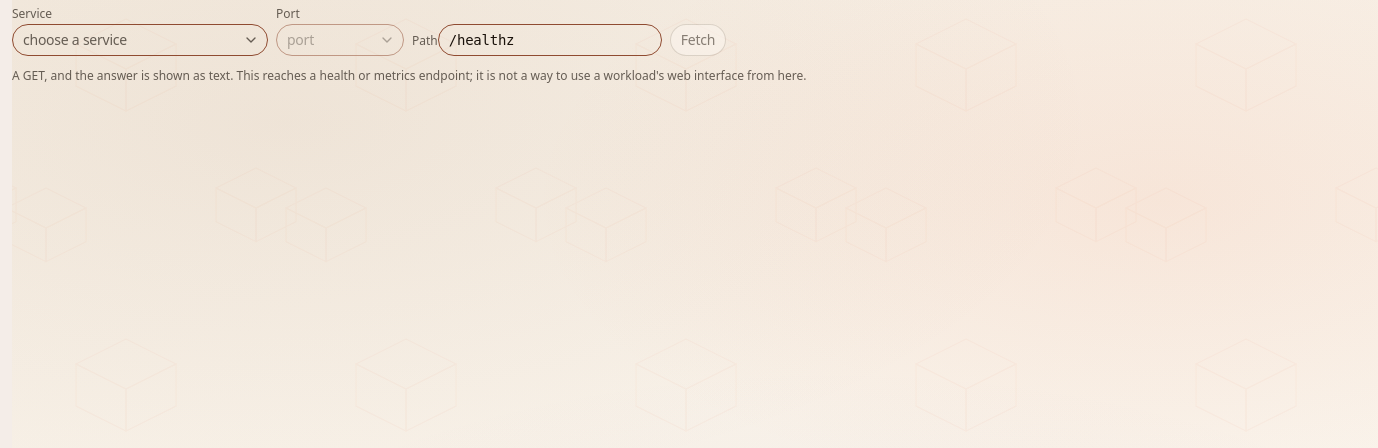
Test: reaching a service › does not carry a port over to a service that may not have it
This screenshot has width=1378, height=448.
Click the dropdown labelled "service" at (140, 40), box left=12, top=24, right=268, bottom=56
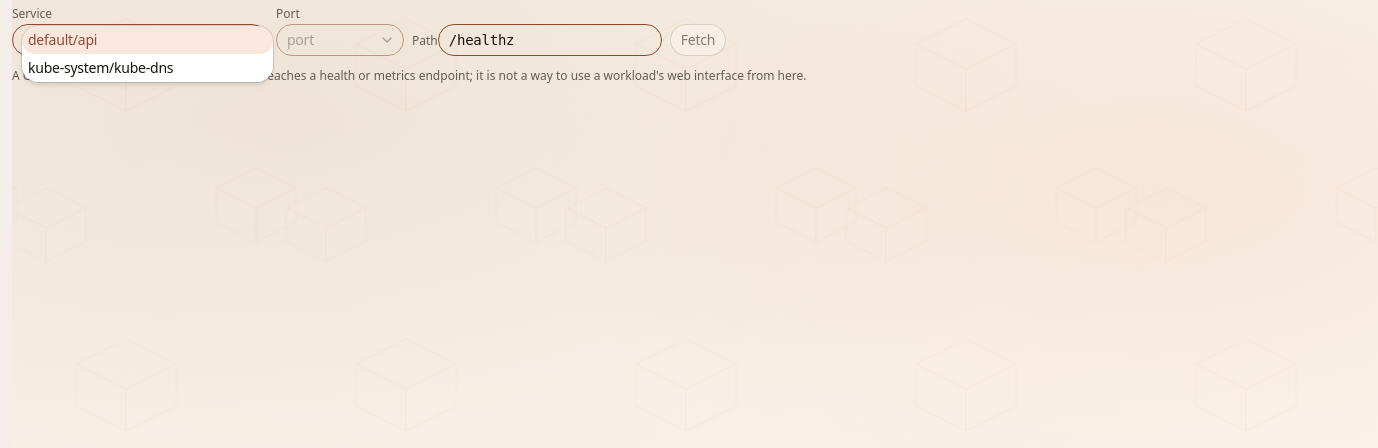
Click the option "default/api" at (148, 40), box left=22, top=26, right=273, bottom=54
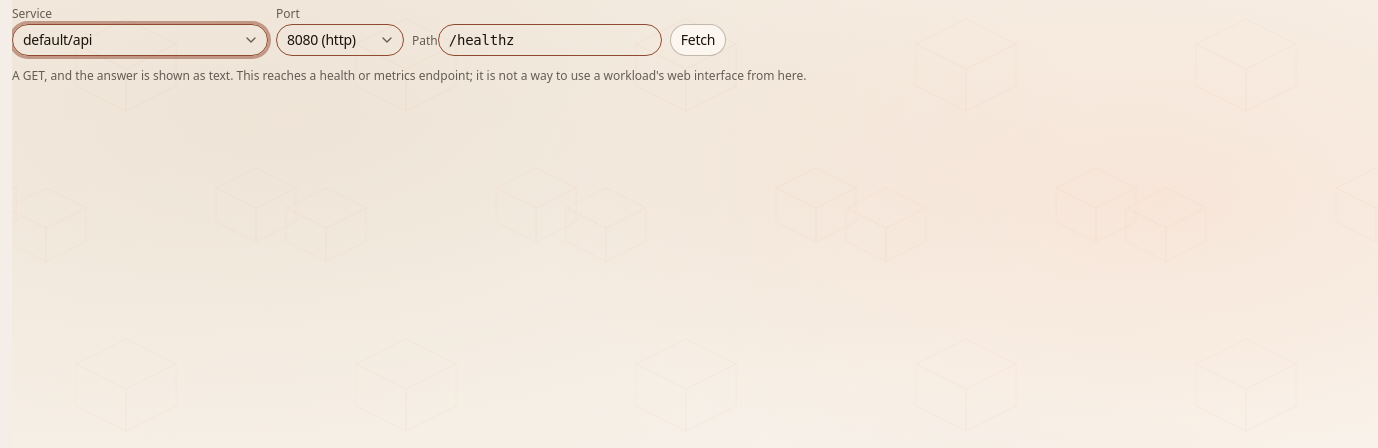
Click the dropdown named "Service" at (140, 40), box left=12, top=24, right=268, bottom=56
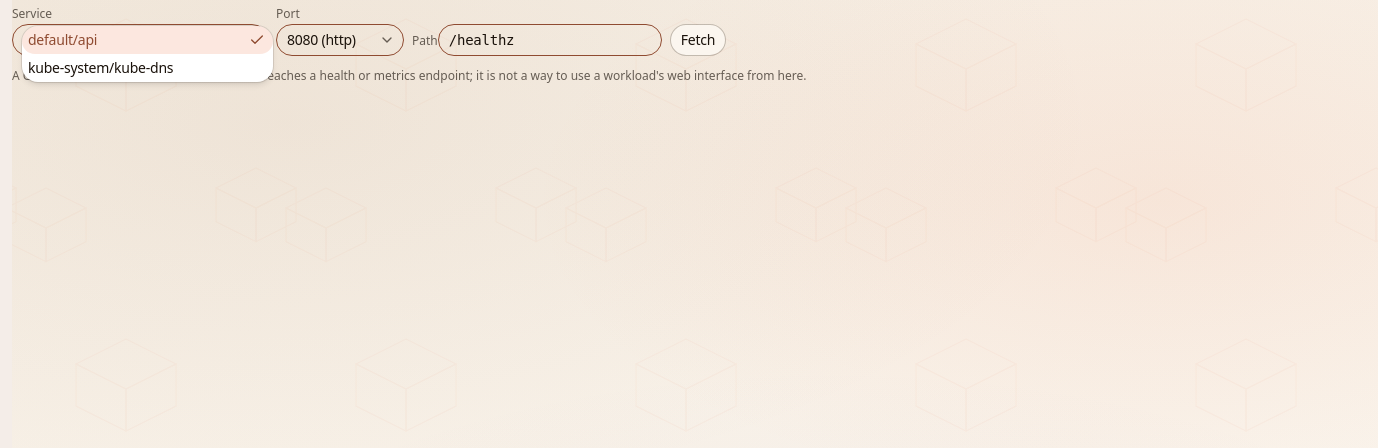
Click the option "kube-system/kube-dns" at (101, 68), box left=28, top=58, right=173, bottom=77
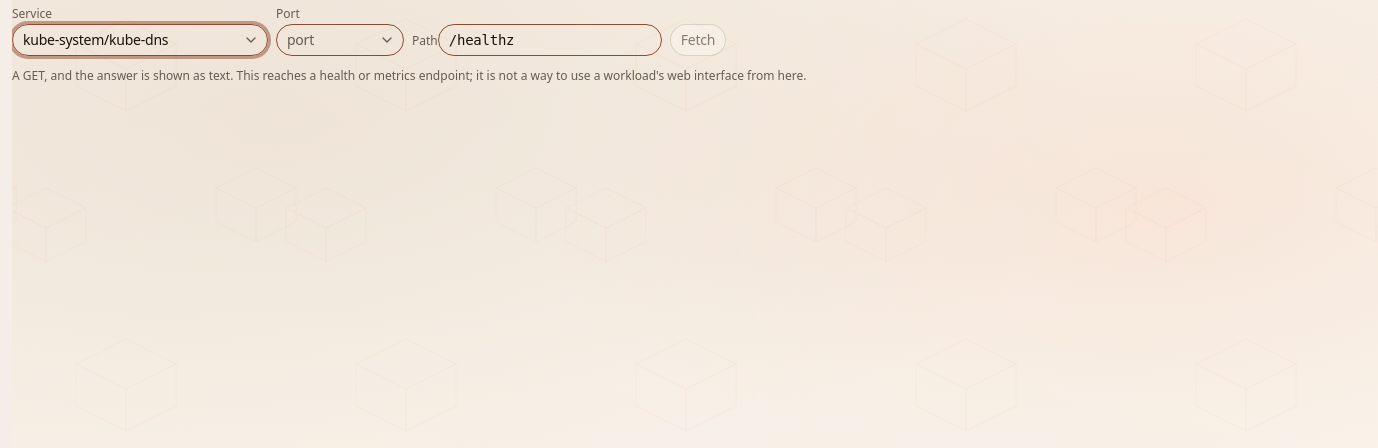
Check: the button "Fetch" is disabled, box left=670, top=24, right=726, bottom=56
